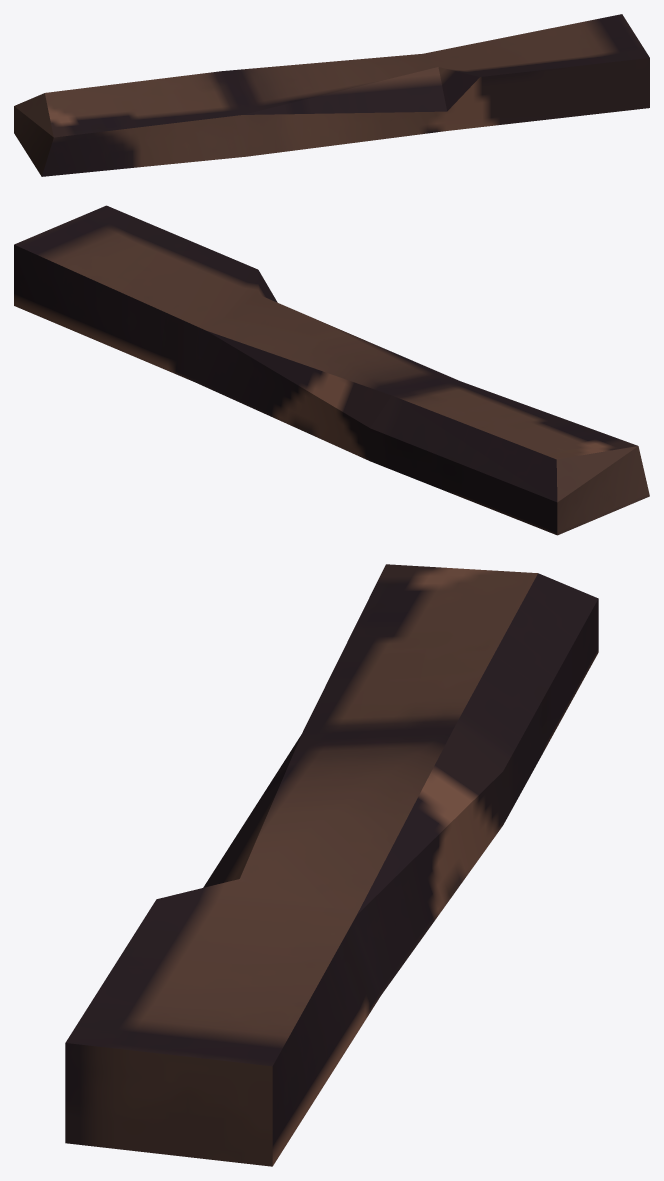
File: bridge_12.FBX
The picture shows the model from 3 angles, top to bottom: view 1: azimuth 30°, elevation 25°; view 2: azimuth 150°, elevation 25°; view 3: azimuth 270°, elevation 25°; orthographic projection. The views are drawn at different scales.
Parts seen in each view (by area): view 1: bridge_12; view 2: bridge_12; view 3: bridge_12.
Part boxes in pixels (x1,y1,x2,y2): bridge_12: (14,14,649,176); bridge_12: (14,205,649,535); bridge_12: (65,564,598,1166).
Size of the model in its own units: 3.74 by 0.3258 by 1.57.
